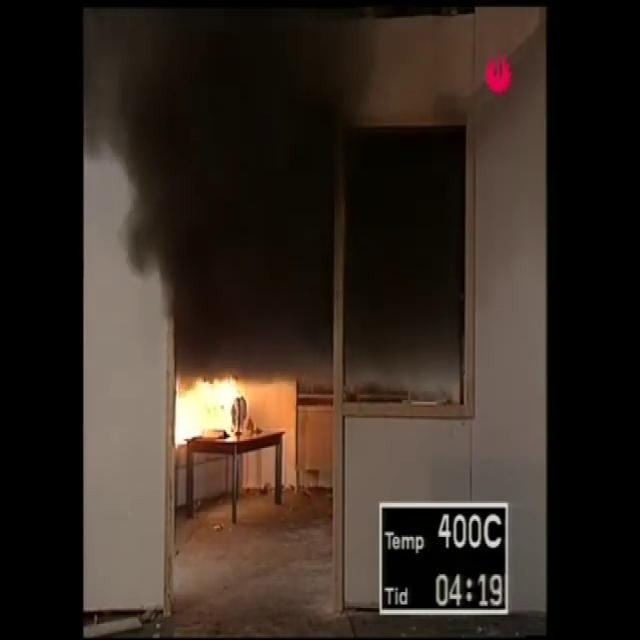Fire: (168, 378, 249, 457)
Smoke: (90, 23, 366, 289)
